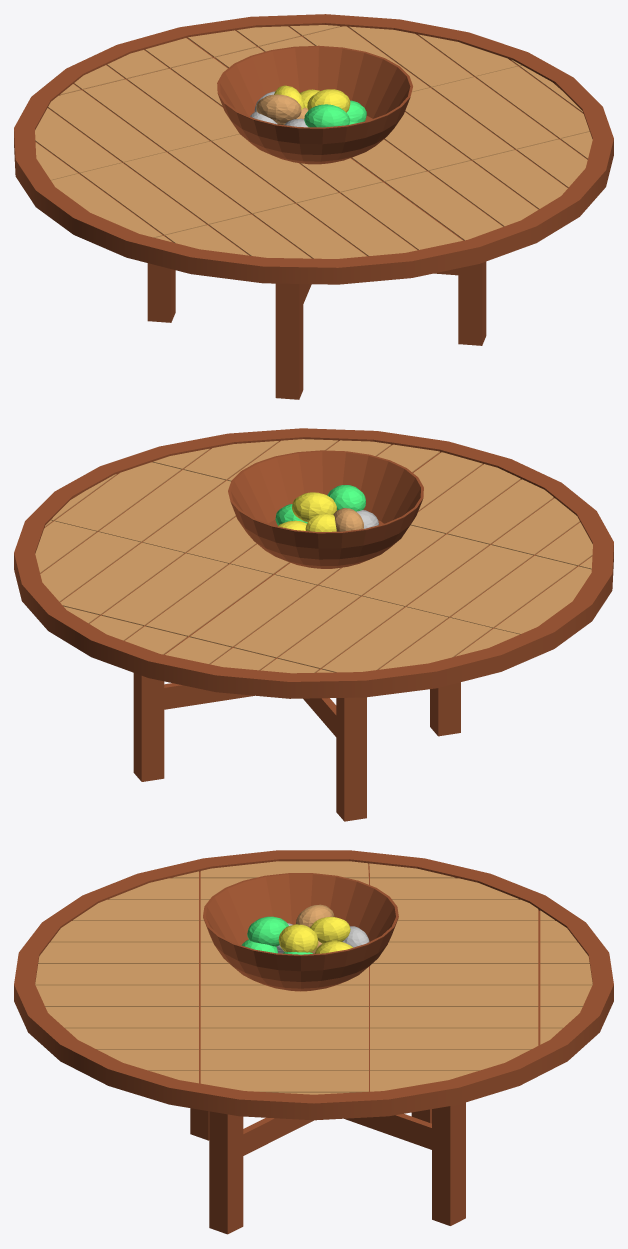
Rendered from 41ba3f13-2d58-4066-ba8a-dac7502feb82.glb.
3 renders of one model, top to bottom at view 1: azimuth 30°, elevation 25°; view 2: azimuth 150°, elevation 25°; view 3: azimuth 270°, elevation 25°, orthographic.
Visible parts, largest first — view 1: Box028, Cylinder004, Cylinder003, Box026, Box022, Box025, Sphere013, Sphere017, Sphere016; view 2: Box028, Cylinder004, Cylinder003, Box025, Box027, Box026, Box024, Sphere016, Sphere017, Box023, Sphere013; view 3: Box028, Cylinder004, Cylinder003, Box022, Box027, Box024, Box023, Sphere016, Sphere017, Sphere019, Box026, Sphere013.
Part boxes in pixels (x1,y1,x2,y2): Box028: (35, 25, 592, 258); Cylinder004: (14, 14, 613, 284); Cylinder003: (217, 45, 412, 164); Box026: (275, 283, 303, 399); Box022: (458, 261, 486, 345); Box025: (147, 263, 175, 322); Sphere013: (256, 94, 301, 123); Sphere017: (304, 104, 349, 127); Sphere016: (307, 89, 350, 112); Box028: (35, 439, 592, 673); Cylinder004: (14, 428, 613, 698); Cylinder003: (228, 450, 423, 568); Box025: (336, 697, 366, 821); Box027: (133, 673, 164, 781); Box026: (430, 682, 460, 736); Box024: (164, 683, 254, 709); Sphere016: (292, 492, 336, 522); Sphere017: (327, 485, 365, 511); Box023: (303, 698, 336, 736); Sphere013: (333, 508, 363, 531); Box028: (35, 861, 592, 1094); Cylinder004: (14, 850, 613, 1120); Cylinder003: (203, 873, 398, 991); Box022: (209, 1111, 243, 1234); Box027: (432, 1102, 465, 1225); Box024: (344, 1114, 431, 1149); Box023: (243, 1117, 313, 1155); Sphere016: (278, 924, 318, 952); Sphere017: (247, 916, 288, 946); Sphere019: (310, 917, 350, 943); Box026: (190, 1108, 209, 1140); Sphere013: (296, 904, 334, 927).
Size of the model in its own units: 73908 by 34654 by 74054.
